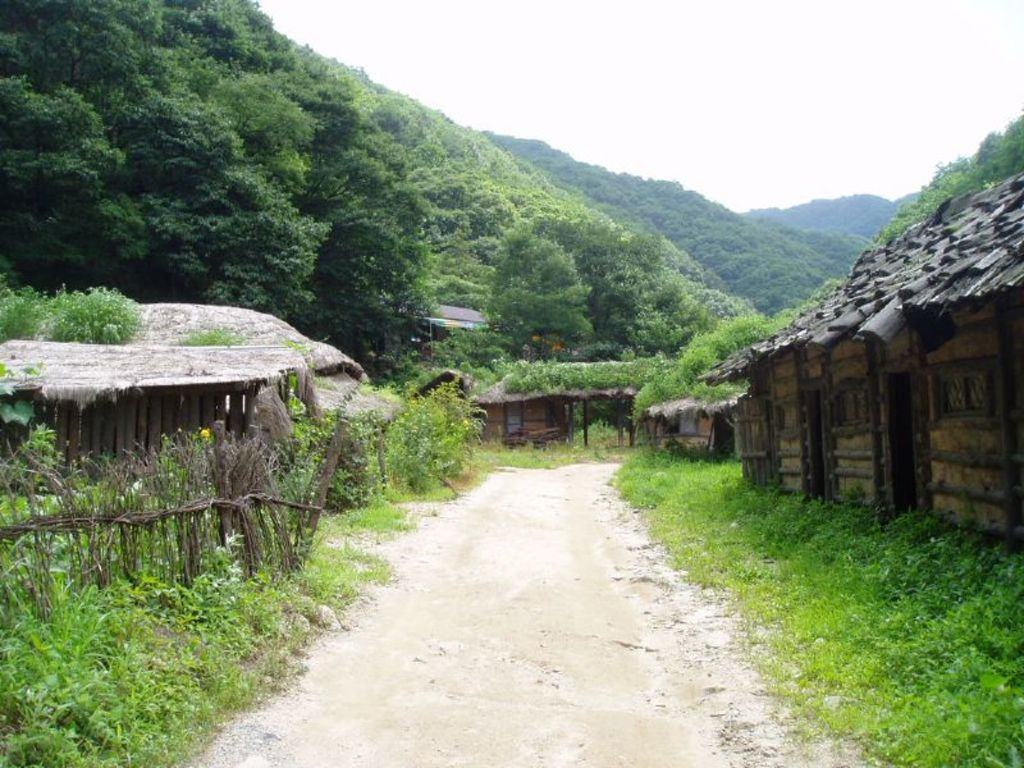Tree: (0, 0, 739, 390)
